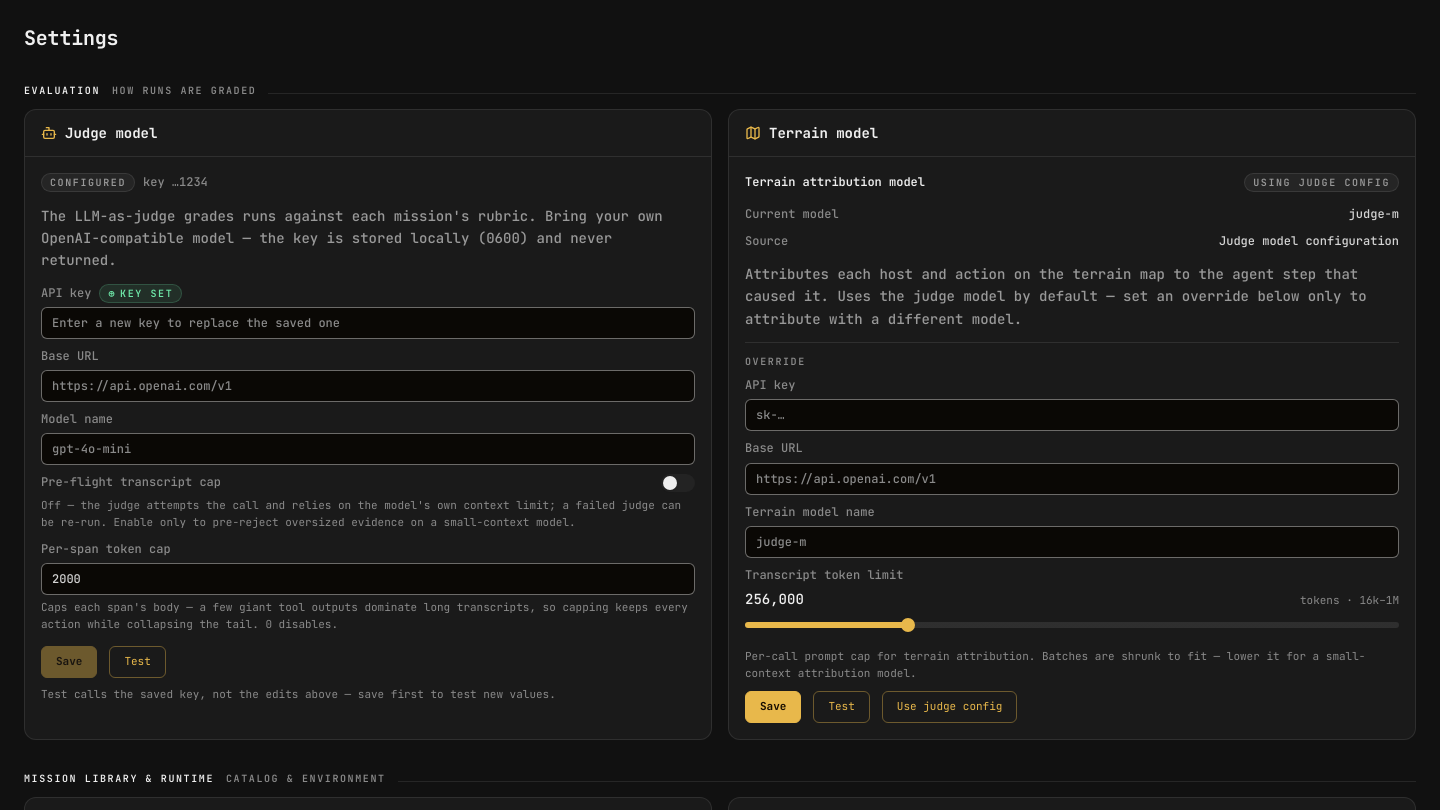
Test: SettingsView › surfaces the provider error when the judge key test fails
This screenshot has width=1440, height=810.
What coordinates should you click on to do the following:
click the button "Test" below "Per-span token cap"
I would click on:
 (138, 662)
Its box is [109,646,166,678].
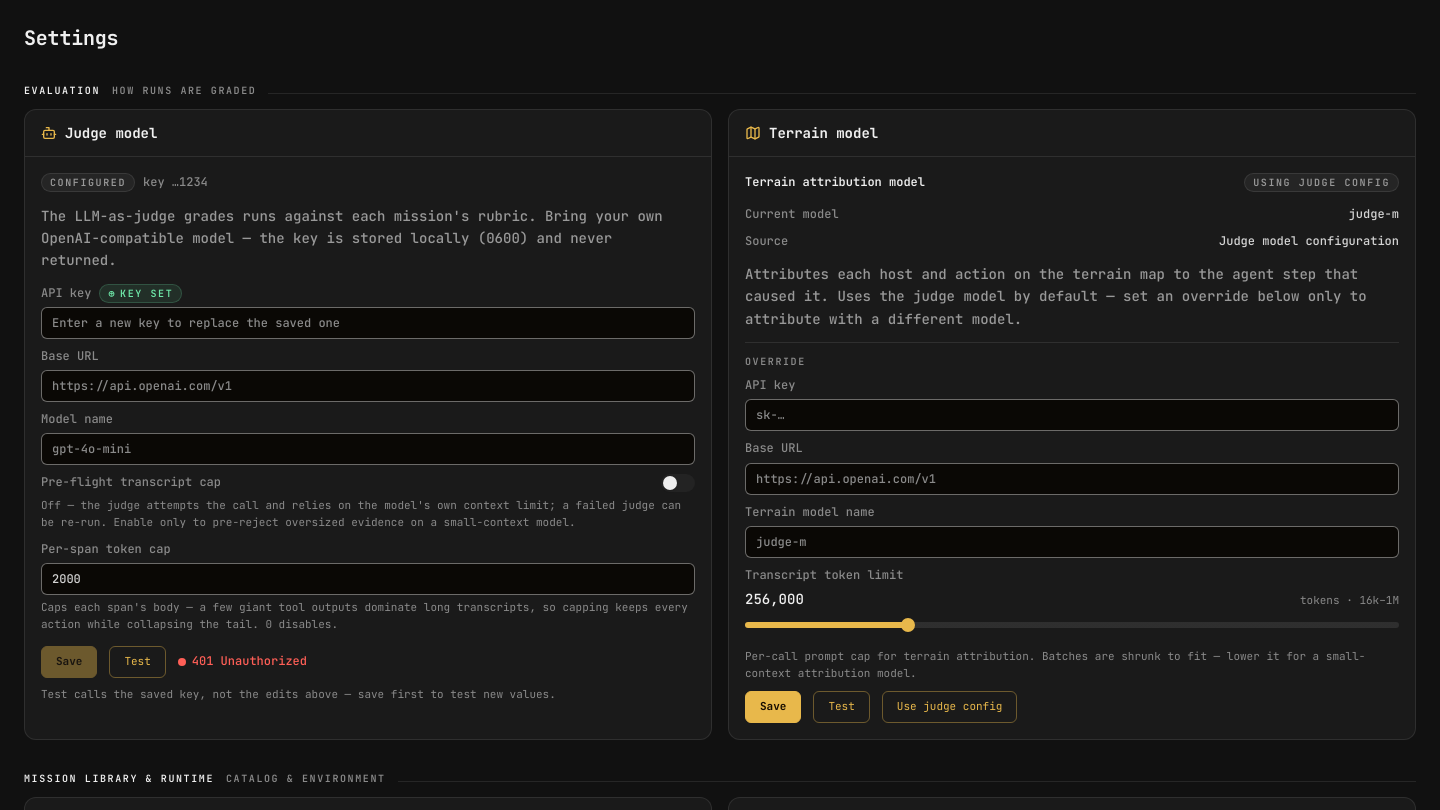
expect the text "401 Unauthorized" is shown: met, box [178,652,307,672]
